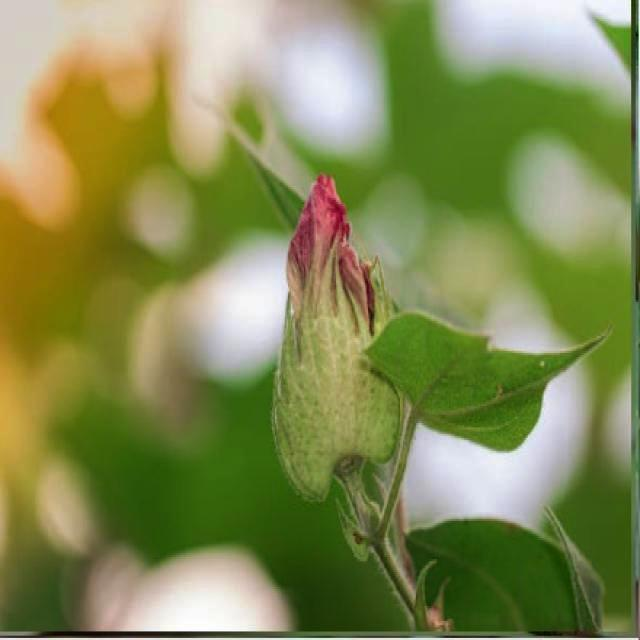Cotton Blossom: (259, 174, 419, 506)
